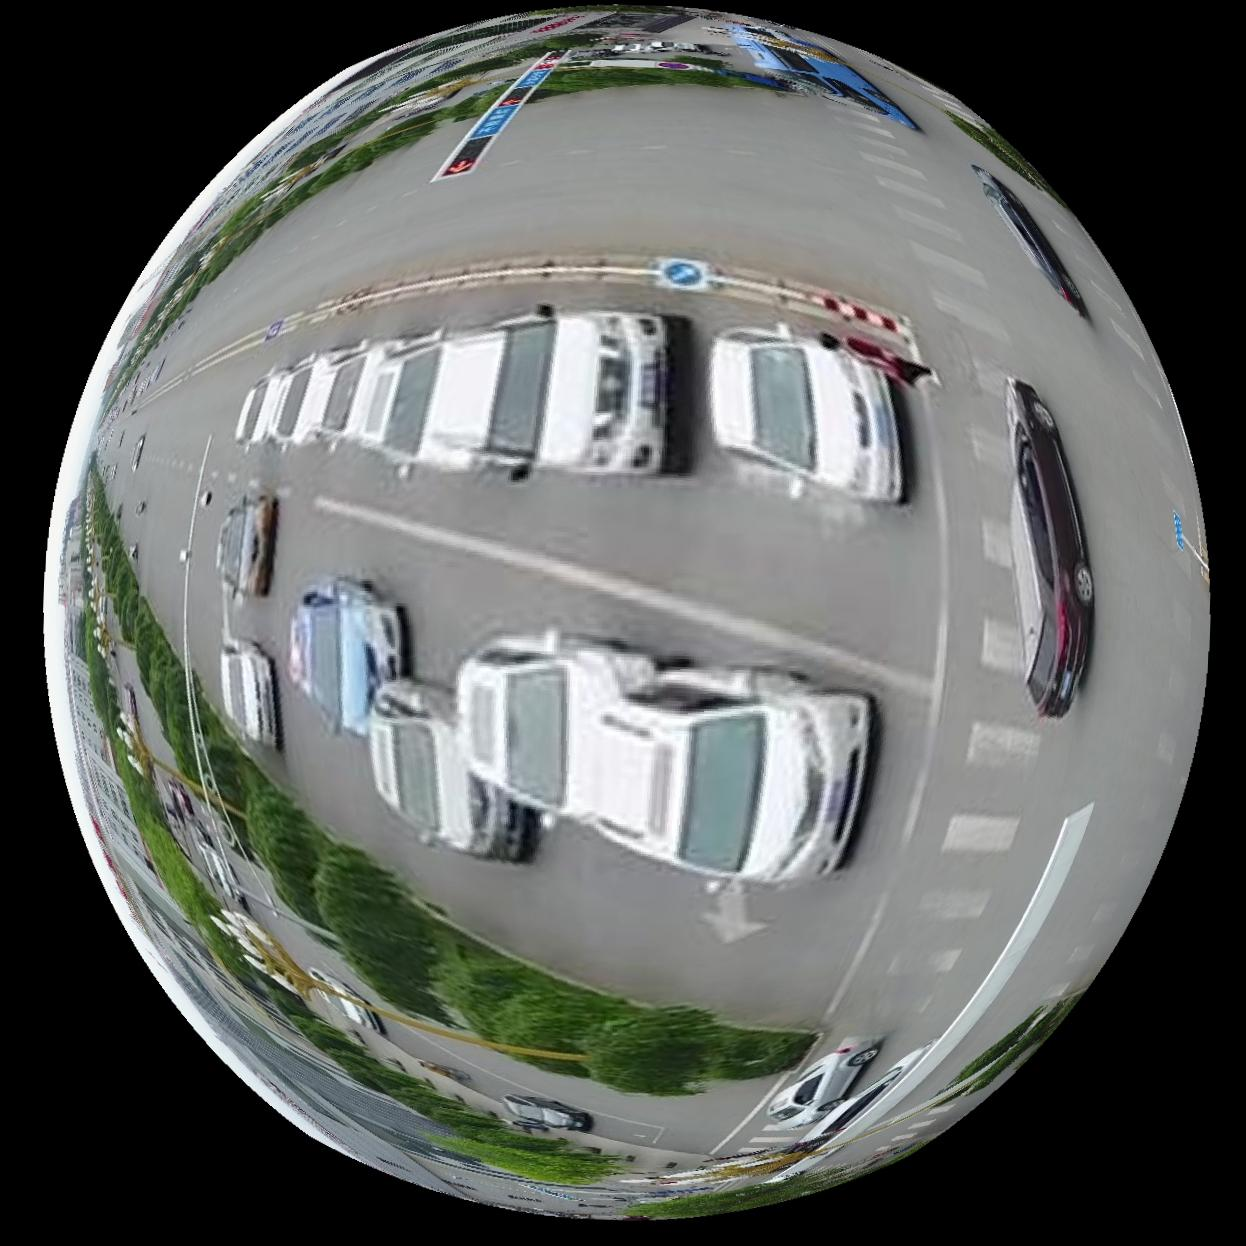cars: (582, 665, 873, 884), (431, 304, 687, 478), (456, 628, 686, 819), (710, 322, 905, 503), (1008, 375, 1097, 715), (370, 678, 529, 864), (289, 575, 403, 735), (973, 162, 1091, 316), (357, 329, 479, 472), (768, 1037, 881, 1131), (305, 338, 405, 437), (267, 348, 346, 444), (220, 638, 277, 747), (216, 493, 276, 596), (233, 365, 294, 445), (503, 1094, 592, 1132)
trees: (313, 844, 451, 1025), (430, 923, 606, 1057), (581, 998, 816, 1097), (264, 978, 379, 1092), (244, 775, 330, 928), (431, 1120, 622, 1186), (369, 1062, 503, 1143), (512, 1057, 591, 1078)
